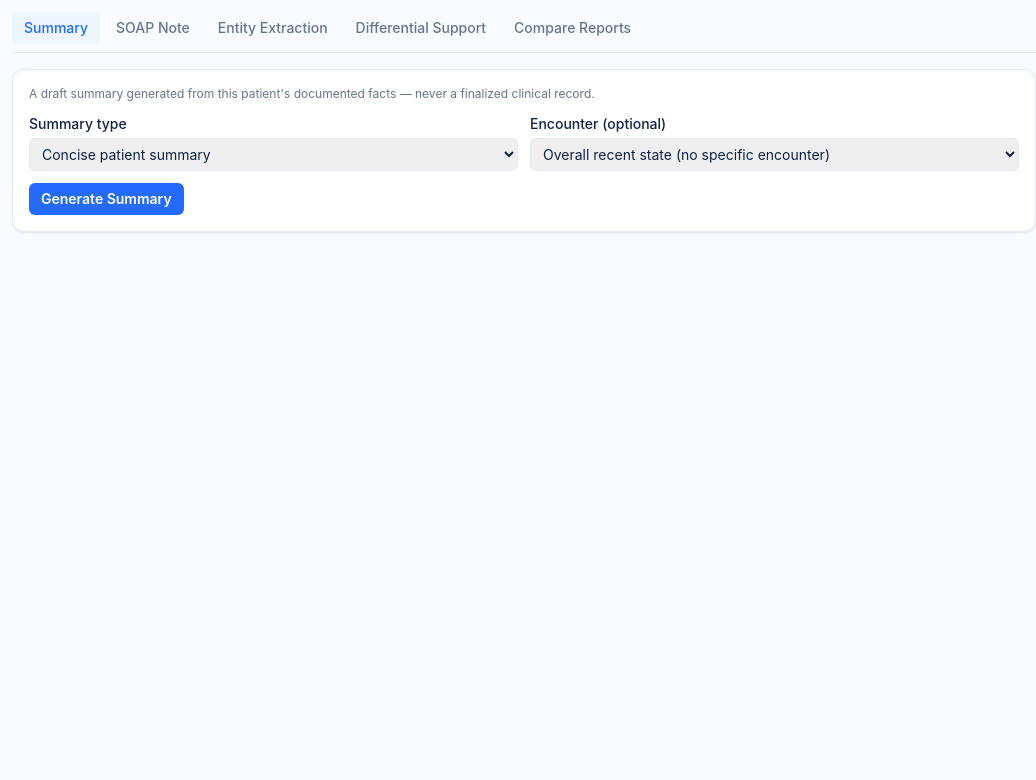
Test: Clinical Modules — patient tab › generates a SOAP note for a selected encounter
The width and height of the screenshot is (1036, 780).
Click the button "SOAP Note". click: (153, 28)
box: 104,12 -> 202,44
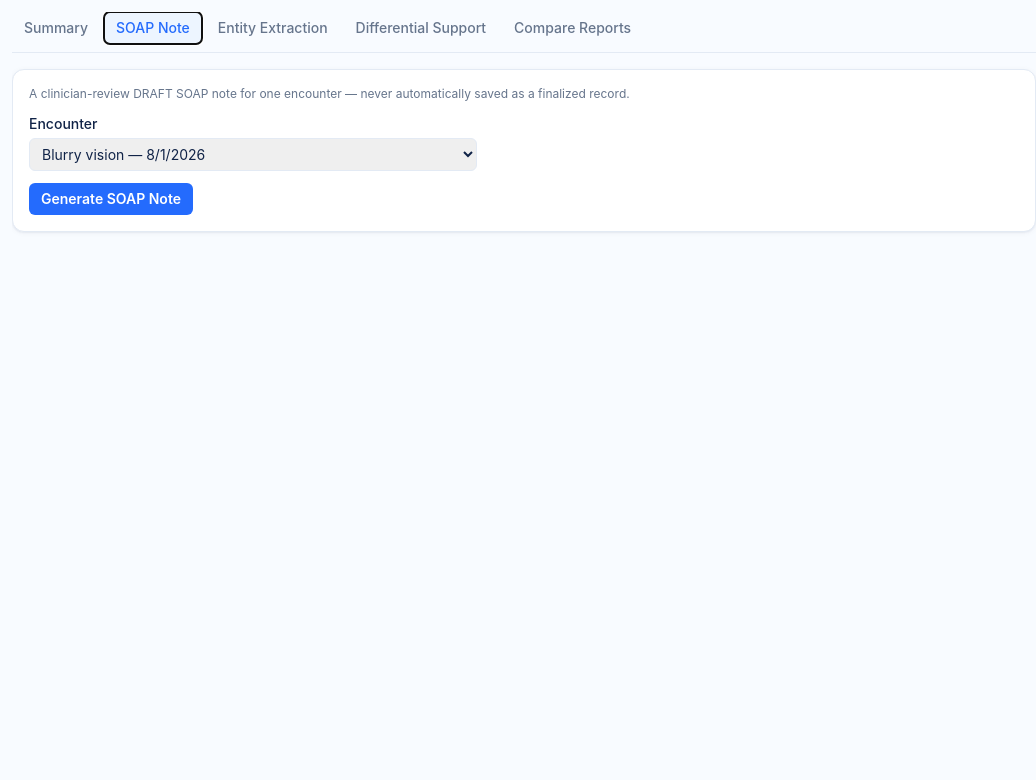
Click the button "Generate SOAP Note". click: (111, 199)
box: 29,183 -> 193,215
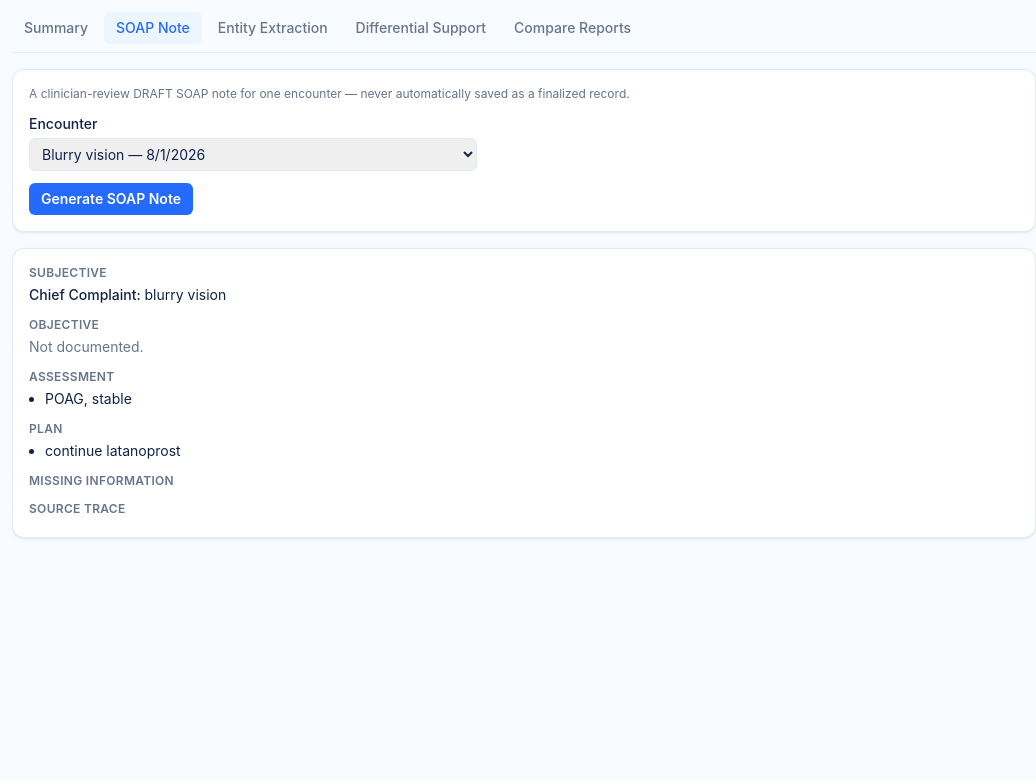
Result: the list item "POAG, stable" is shown at 45,390 -> 132,407
Result: the list item "continue latanoprost" is shown at 45,442 -> 181,459
